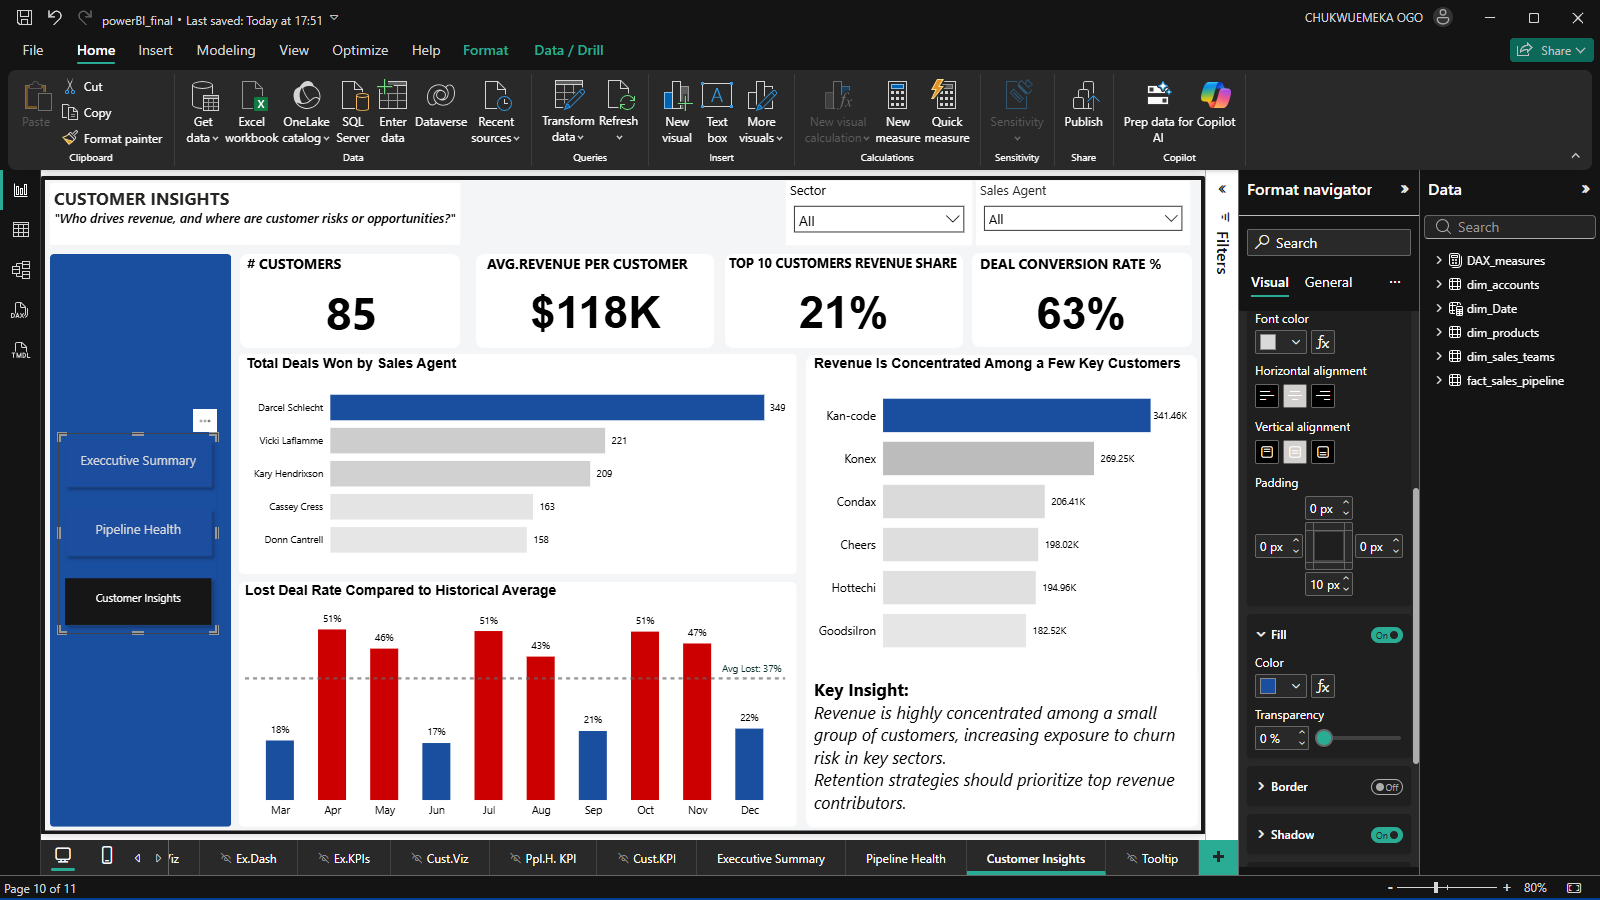

The page's visual inventory and layout, read from the dashboard file:
{"tool":"powerbi","page":{"name":"Customer Insights","canvas":[1450,820],"ordinal":9},"visuals":[{"type":"shape","box":[0,0,1450,820.4],"z":0},{"type":"shape","box":[851.5,97.2,296.7,117.2],"z":1000},{"type":"textbox","box":[11.2,8.7,511.2,77.3],"z":2000},{"type":"shape","box":[542.3,97.2,296.7,117.2],"z":3000},{"type":"shape","box":[11.7,97.3,225.7,713.5],"z":4000},{"type":"shape","box":[1159.5,96,274.3,117.2],"z":5000},{"type":"shape","box":[248.1,97.2,274.3,117.2],"z":6000},{"type":"shape","box":[952.5,222.5,487.5,588.8],"z":7000},{"type":"shape","box":[246.8,222.1,694.8,274],"z":8000},{"type":"shape","box":[246.8,505.2,694.8,305.2],"z":9000},{"type":"card","title":"AVG.REVENUE PER CUSTOMER","fields":{"Values":["DAX_measures.Avg Revenue per Customer"]},"box":[551.1,97.2,280.5,113.5],"z":10000},{"type":"card","title":"DEAL CONVERSION RATE %","fields":{"Values":["DAX_measures.Win Rate %"]},"box":[1164.5,97.2,263.1,114.7],"z":11000},{"type":"card","title":"# CUSTOMERS","fields":{"Values":["DAX_measures.Total Customers"]},"box":[251.8,97.2,270.5,117.2],"z":12000},{"type":"card","title":"TOP 10 CUSTOMERS REVENUE SHARE","fields":{"Values":["DAX_measures.Top 10 Concentration %"]},"box":[851.5,97.2,296.7,114.7],"z":13000},{"type":"clusteredColumnChart","title":"Lost Deal Rate Compared to Historical Average","fields":{"Category":["dim_Date.Month Name"],"Y":["DAX_measures.Monthly Lost Deal Rate"]},"box":[249.4,505.2,683.1,302.6],"z":14000},{"type":"clusteredBarChart","title":"Total Deals Won by Sales Agent","fields":{"Category":["dim_sales_teams.Sales_Agent"],"Y":["DAX_measures.Deals Won"]},"box":[250.6,223.4,681.8,268.8],"z":15000},{"type":"textbox","box":[957.4,620.1,482.6,188.1],"z":16000},{"type":"barChart","title":"Revenue Is Concentrated Among a Few Key Customers","fields":{"Y":["DAX_measures.Industry Revenue"],"Category":["dim_accounts.Company_Name"]},"box":[957.4,228.3,474.8,391.8],"z":17000},{"type":"pageNavigator","box":[21,350,200,250],"z":18000},{"type":"slicer","title":"Sales Agent","fields":{"Values":["dim_sales_teams.Sales_Agent"]},"box":[1165,6.5,267.2,80.4],"z":19000},{"type":"slicer","title":"Sector","fields":{"Values":["dim_accounts.Sector"]},"box":[927.6,6.5,232.2,80.4],"z":20000}]}

Visuals, with their boxes on the page's 1450x820 design canvas (x1, y1, x2, y2). These are canvas units, not pixel positions in the 1600x900 screenshot, which may show the page scaled, cropped or inside an application window:
shape: (0, 0, 1450, 820)
shape: (852, 97, 1148, 214)
textbox: (11, 9, 522, 86)
shape: (542, 97, 839, 214)
shape: (12, 97, 237, 811)
shape: (1160, 96, 1434, 213)
shape: (248, 97, 522, 214)
shape: (952, 222, 1440, 811)
shape: (247, 222, 942, 496)
shape: (247, 505, 942, 810)
"AVG.REVENUE PER CUSTOMER" card: (551, 97, 832, 211)
"DEAL CONVERSION RATE %" card: (1164, 97, 1428, 212)
"# CUSTOMERS" card: (252, 97, 522, 214)
"TOP 10 CUSTOMERS REVENUE SHARE" card: (852, 97, 1148, 212)
"Lost Deal Rate Compared to Historical Average" clusteredColumnChart: (249, 505, 932, 808)
"Total Deals Won by Sales Agent" clusteredBarChart: (251, 223, 932, 492)
textbox: (957, 620, 1440, 808)
"Revenue Is Concentrated Among a Few Key Customers" barChart: (957, 228, 1432, 620)
pageNavigator: (21, 350, 221, 600)
"Sales Agent" slicer: (1165, 6, 1432, 87)
"Sector" slicer: (928, 6, 1160, 87)
